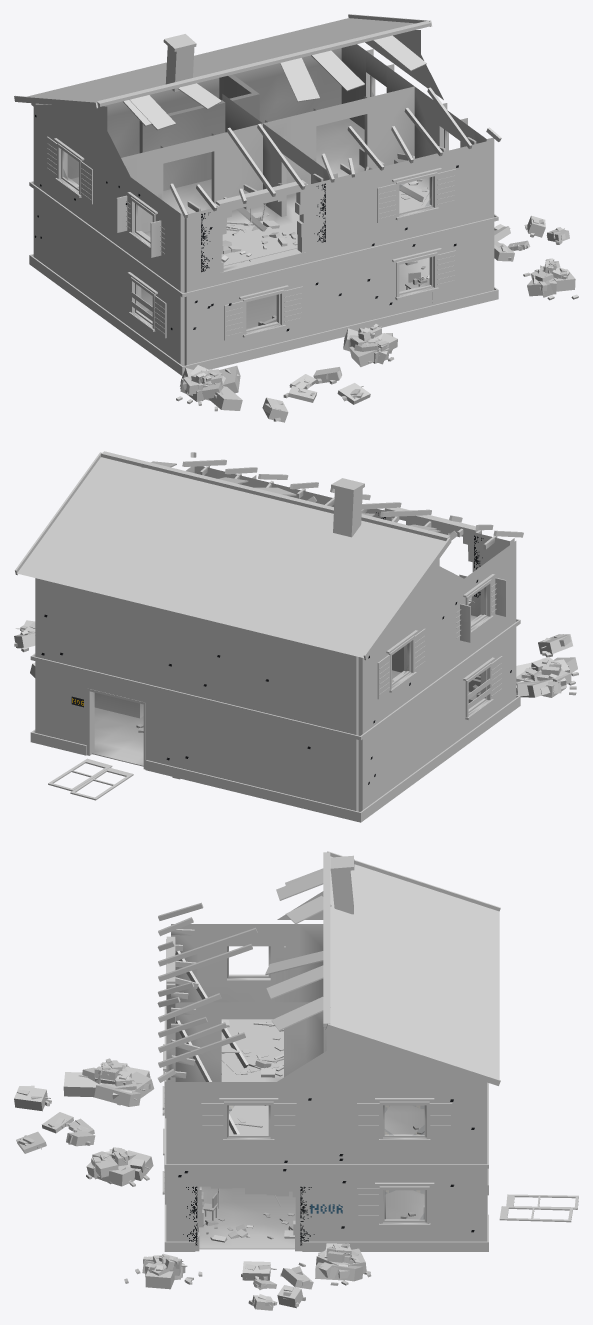
File: old_house_7.glb
3 renders of one model, top to bottom at view 1: azimuth 30°, elevation 25°; view 2: azimuth 150°, elevation 25°; view 3: azimuth 270°, elevation 25°, orthographic. The views are drawn at different scales.
Visible parts, largest first — view 1: old_house_7; view 2: old_house_7; view 3: old_house_7.
Boxes of the visible parts, box(x1,y1,x2,y2) form: old_house_7: box(14, 14, 578, 422); old_house_7: box(14, 451, 578, 822); old_house_7: box(14, 851, 578, 1310).
Bounding box in the file's own units: 18.14 × 9.78 × 18.13.
Materials: 4 (3 with a texture image).
